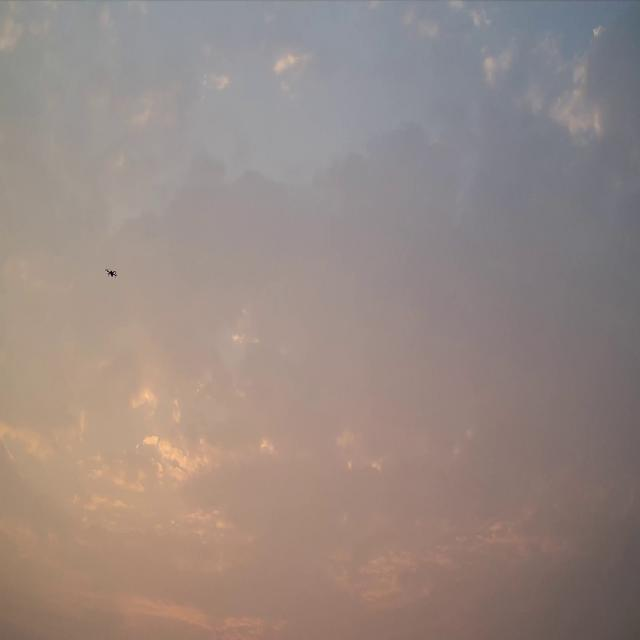UAV: (104, 269, 118, 278)
